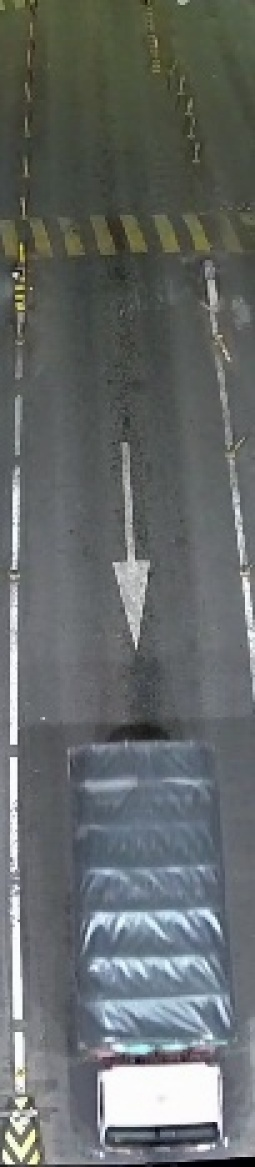truck: (73, 743, 237, 1159)
